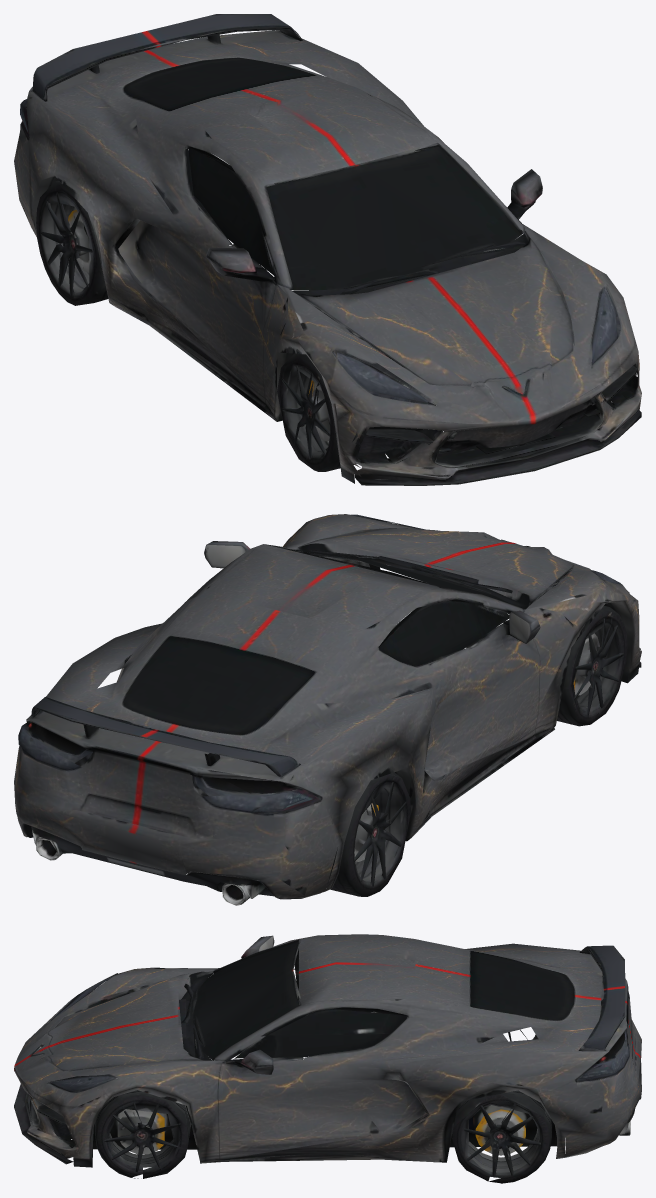
File: eltesla.glb
3 renders of one model, top to bottom at view 1: azimuth 30°, elevation 25°; view 2: azimuth 150°, elevation 25°; view 3: azimuth 270°, elevation 25°, orthographic. The views are drawn at different scales.
Visible parts, largest first — view 1: ba9477d0_a2cd_43be_8818_dda4f16c37b6; view 2: ba9477d0_a2cd_43be_8818_dda4f16c37b6; view 3: ba9477d0_a2cd_43be_8818_dda4f16c37b6.
Part boxes in pixels (box(x1,y1,x2,y2)): ba9477d0_a2cd_43be_8818_dda4f16c37b6: box(14, 14, 641, 485); ba9477d0_a2cd_43be_8818_dda4f16c37b6: box(14, 514, 641, 905); ba9477d0_a2cd_43be_8818_dda4f16c37b6: box(14, 934, 641, 1183).
Size of the model in its own units: 0.4702 by 0.2843 by 0.998.
Materials: 5 (5 with a texture image).
